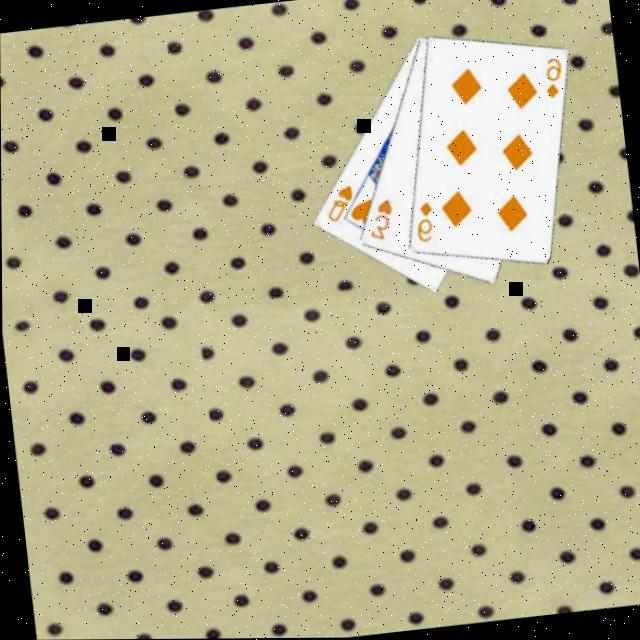3H: (364, 195, 399, 245)
6D: (410, 199, 439, 247), (540, 55, 569, 103)
QH: (321, 182, 359, 226)
